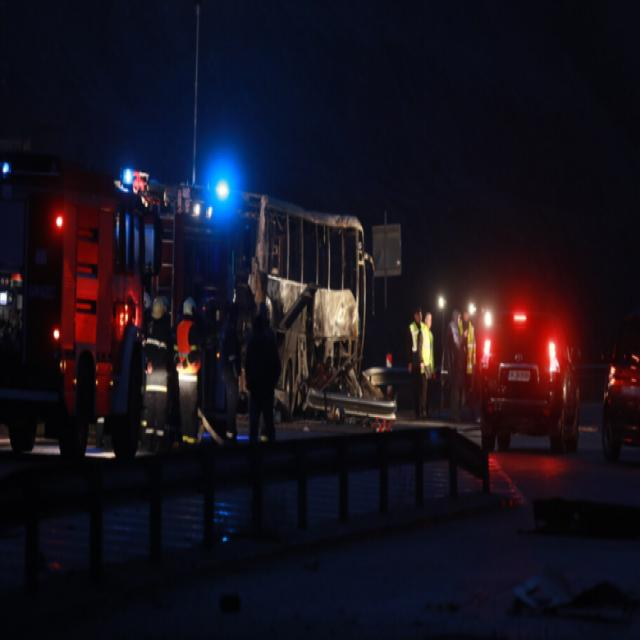Accident: (12, 148, 380, 448)
